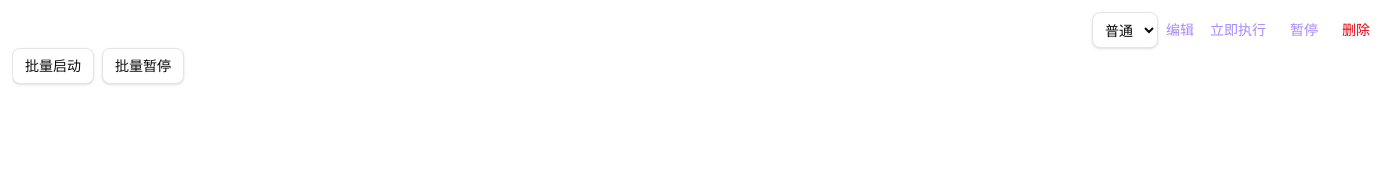
Test: 任务管理 › 支持单项暂停及按当前筛选批量启动/暂停
Click the button "暂停" at (1304, 30), box x1=1282 y1=20 x2=1326 y2=40
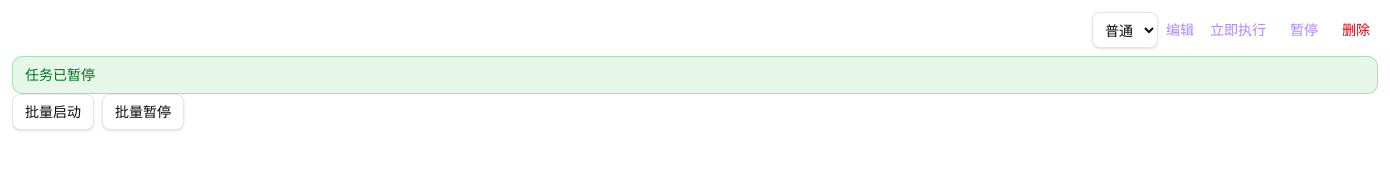
Click the button "批量启动" at (53, 112), box x1=12 y1=94 x2=94 y2=130
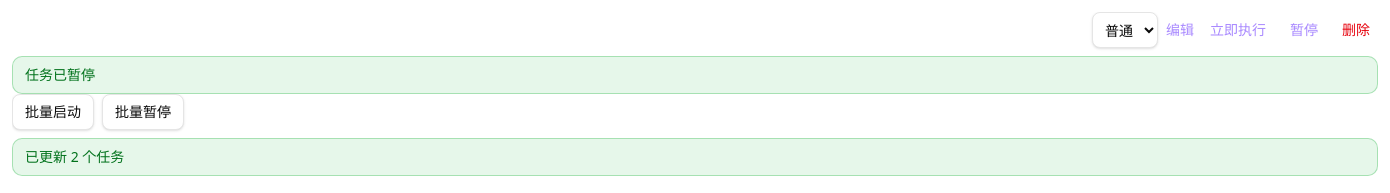
Expected: the text "已更新 2 个任务" is shown, x1=25 y1=147 x2=124 y2=166
Click the button "批量暂停" at (143, 112), box x1=102 y1=94 x2=184 y2=130
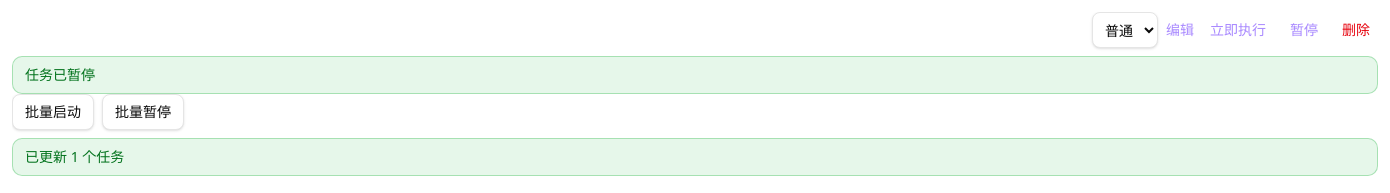
Expected: the text "已更新 1 个任务" is shown, x1=25 y1=147 x2=124 y2=166
